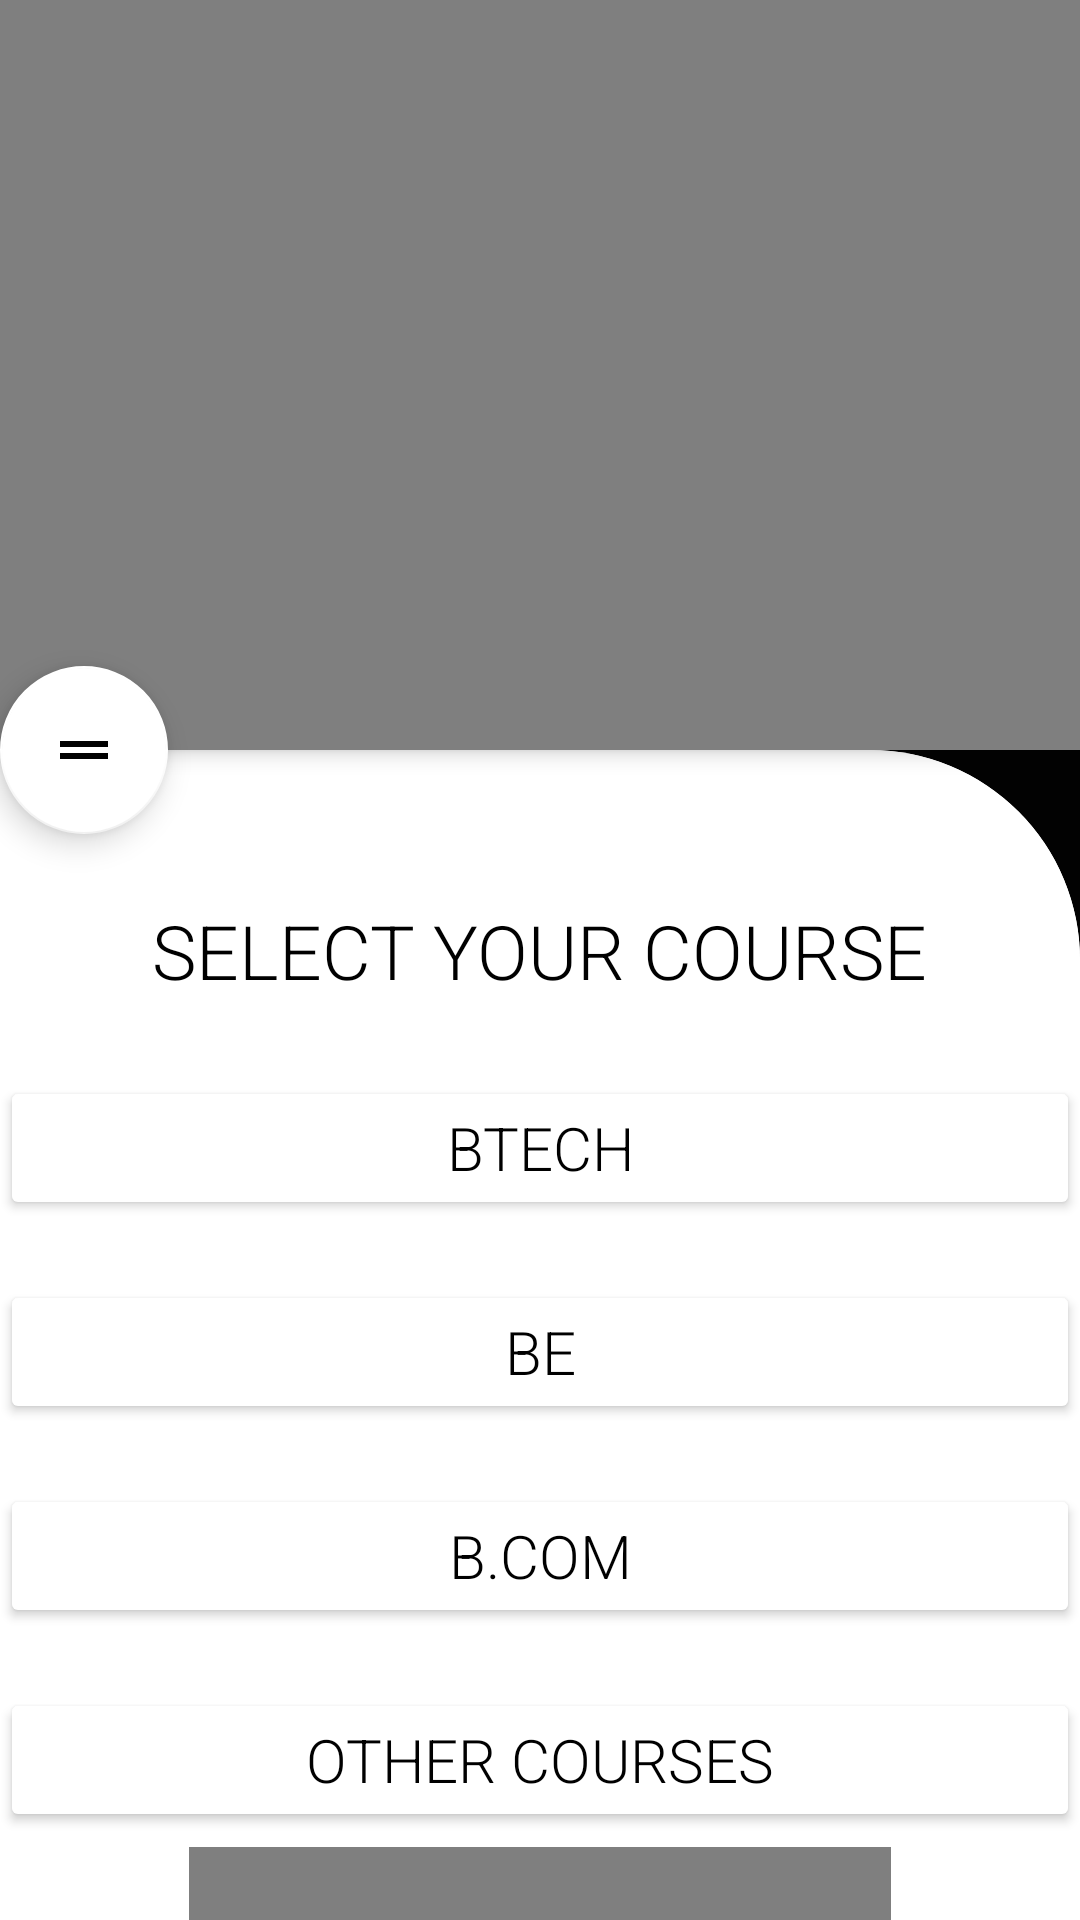

Named icons in this screenshot (1080×1920) and their centers, (x=x, y=y):
drag handle: (x=84, y=750)
